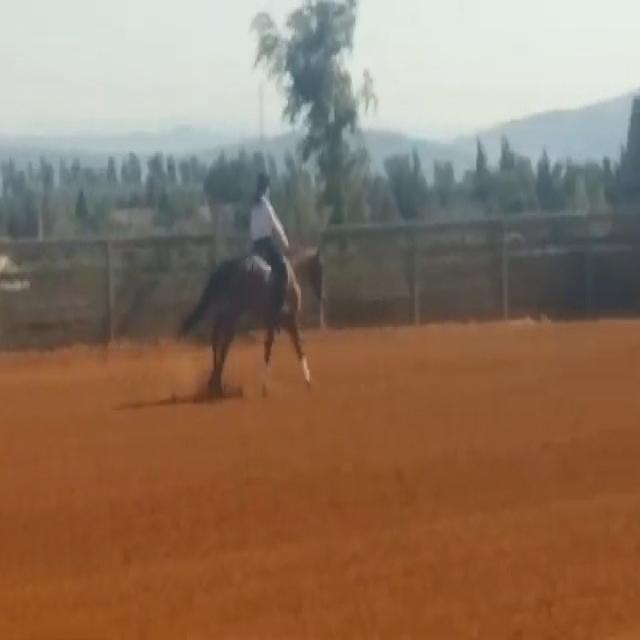horse: (175, 240, 327, 398)
